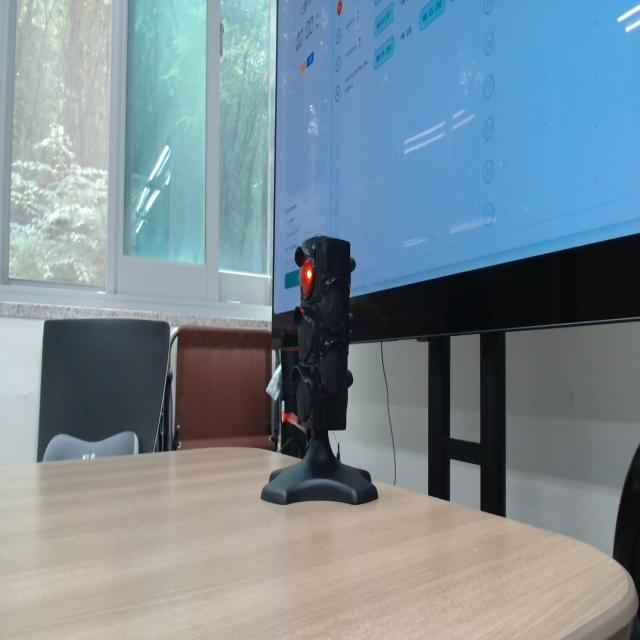red_light: (300, 259, 314, 299), (306, 268, 312, 282), (337, 0, 342, 16)
